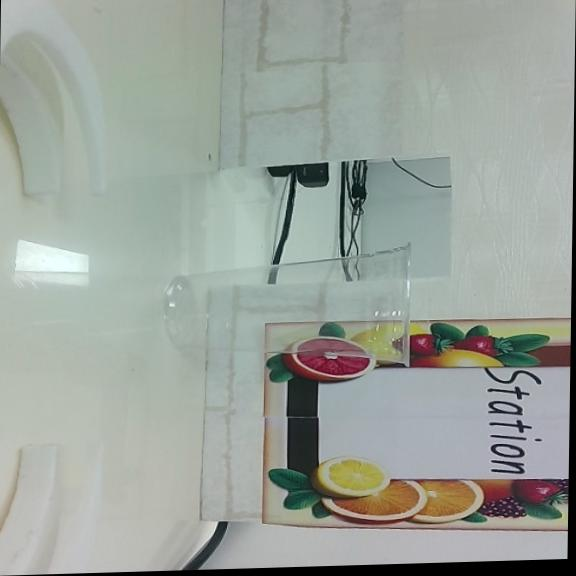Plastik: (166, 248, 409, 361)
